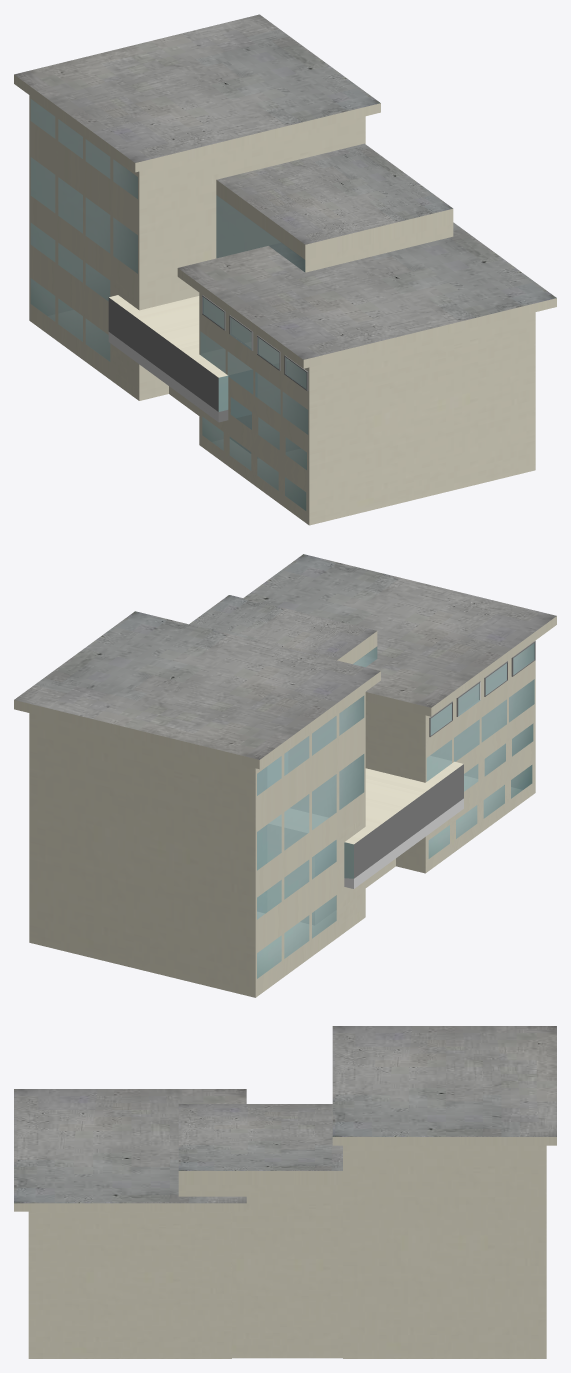
File: 낮은건물3(06-09).FBX
The picture shows the model from 3 angles, top to bottom: view 1: azimuth 30°, elevation 25°; view 2: azimuth 150°, elevation 25°; view 3: azimuth 270°, elevation 25°; orthographic projection. The views are drawn at different scales.
Parts seen in each view (by area): view 1: Box001; view 2: Box001; view 3: Box001.
Part boxes in pixels (box(x1,y1,x2,y2)): Box001: box(14, 14, 556, 525); Box001: box(14, 554, 556, 997); Box001: box(14, 1026, 556, 1358).
Bounding box in the file's own units: 213 × 196 × 427.
